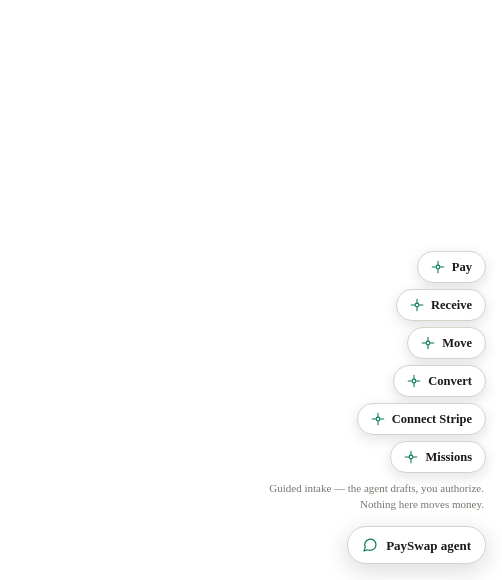
Test: the convergence law (a chip click seeds the ONE shared orchestration) › a Connect Stripe chip click seeds the connection setup intent on the same orchestration
This screenshot has width=502, height=580.
Click the button "Connect Stripe": click(421, 419) [357,403,486,435]
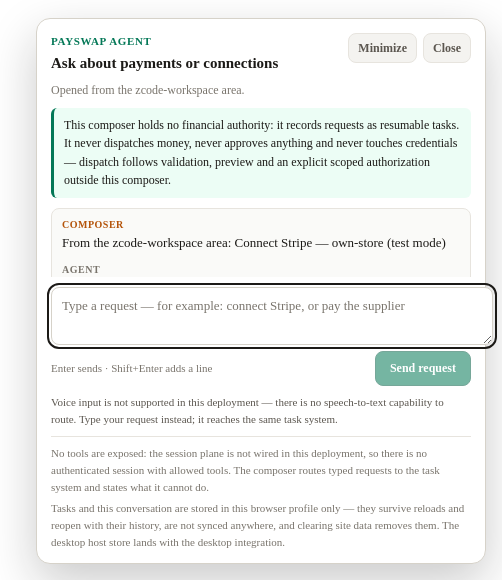
Check: the text "From the zcode-workspace area:" is shown, box [62,235,446,250]
